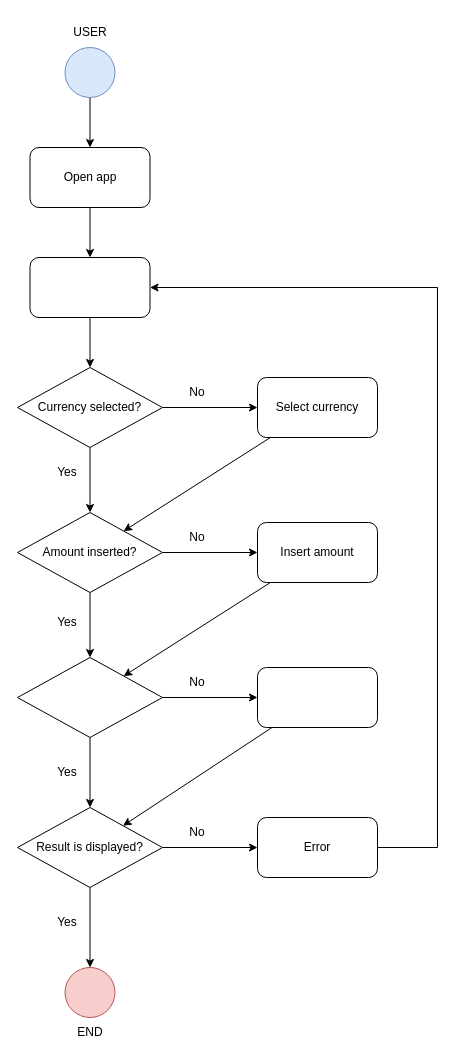
The diagram is 463 pixels wide and 1064 high, and some of its shapes have lost their labels. Each missing label, with the centre of its shape:
"Get Rates" button is pushed?: (x=89, y=697)
Display menu: (x=89, y=287)
Push button: (x=317, y=697)
